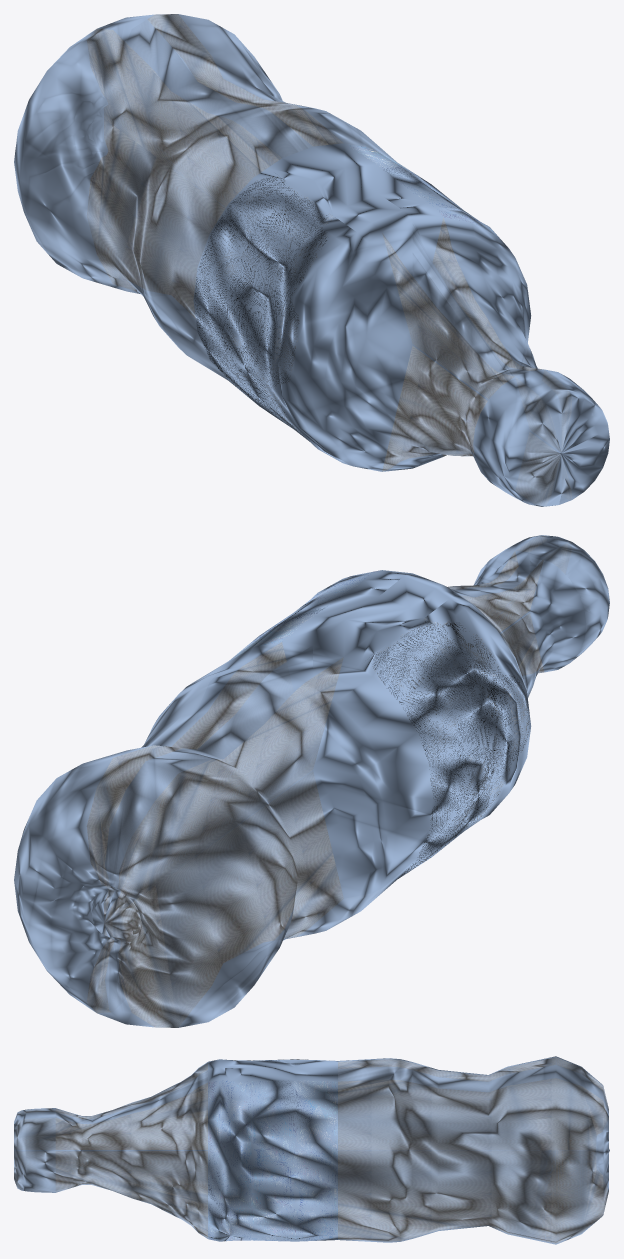
The model's file is model_align.obj.
3 views of the same model, one above another, from view 1: azimuth 30°, elevation 25°; view 2: azimuth 150°, elevation 25°; view 3: azimuth 270°, elevation 25° (orthographic). The views are drawn at different scales.
Size of the model in its own units: 0.0648 by 0.0648 by 0.204.
